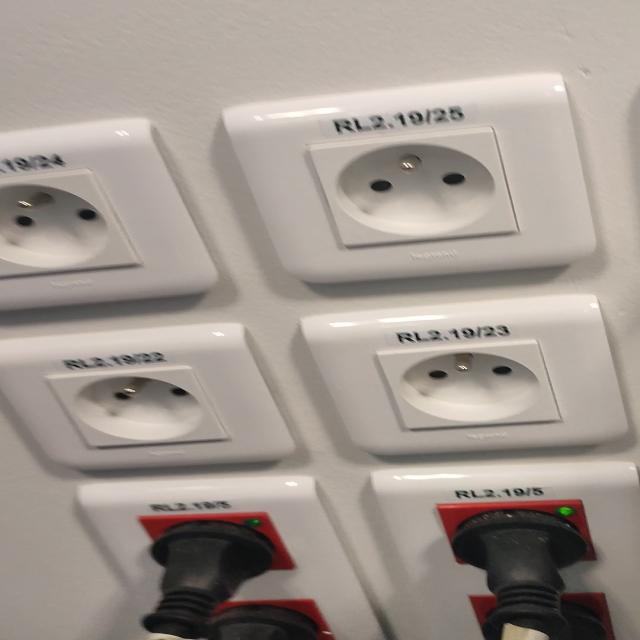house plug: (306, 126, 519, 248), (377, 338, 566, 430), (43, 365, 231, 448), (0, 169, 142, 276)
